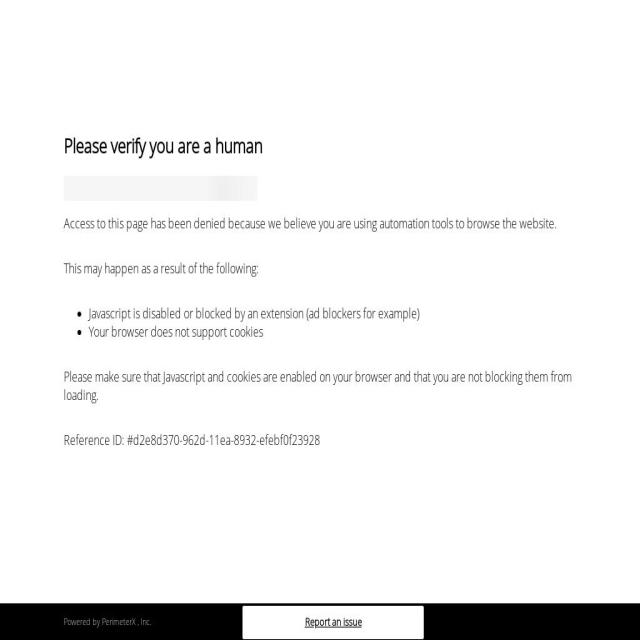heading: (64, 132, 576, 160)
image: (64, 176, 258, 202)
link: (102, 615, 136, 628)
text: (64, 367, 576, 405), (89, 304, 576, 324), (89, 322, 576, 342), (64, 214, 576, 233), (64, 431, 576, 450), (64, 260, 576, 278), (242, 605, 424, 640), (64, 615, 102, 628), (136, 615, 152, 628)
